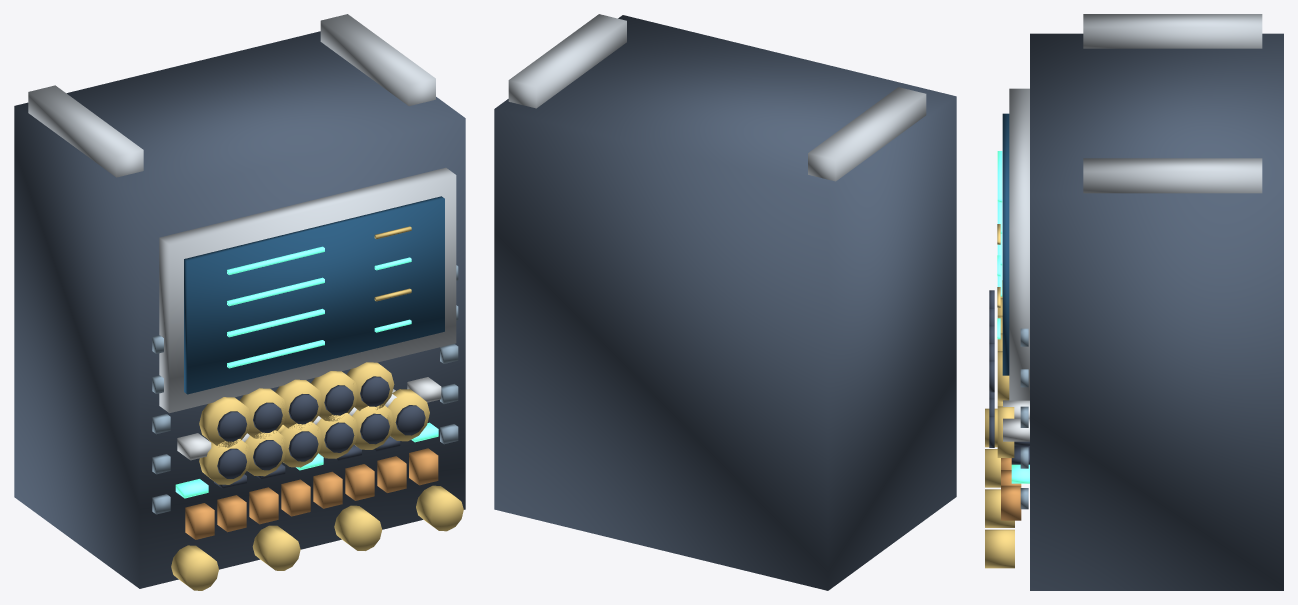
Rendered from 64_L85_DockingMechanismSequencingPLC.glb.
3 renders of one model, left to right at view 1: azimuth 30°, elevation 25°; view 2: azimuth 150°, elevation 25°; view 3: azimuth 270°, elevation 25°, orthographic. The views are drawn at different scales.
Parts seen in each view (by area): view 1: L85_DockingMechanismSequencin_Part_0000, L85_DockingMechanismSequencin_Part_0002, L85_DockingMechanismSequencin_Part_0001, L85_DockingMechanismSequencin_Part_0008, L85_DockingMechanismSequencin_Part_0004, L85_DockingMechanismSequencin_Part_0003, L85_DockingMechanismSequencin_Part_0007, L85_DockingMechanismSequencin_Part_0005, L85_DockingMechanismSequencin_Part_0021, L85_DockingMechanismSequencin_Part_0009, L85_DockingMechanismSequencin_Part_0019, L85_DockingMechanismSequencin_Part_0025 (+19 smaller); view 2: L85_DockingMechanismSequencin_Part_0000, L85_DockingMechanismSequencin_Part_0001; view 3: L85_DockingMechanismSequencin_Part_0000, L85_DockingMechanismSequencin_Part_0001, L85_DockingMechanismSequencin_Part_0004, L85_DockingMechanismSequencin_Part_0002, L85_DockingMechanismSequencin_Part_0003, L85_DockingMechanismSequencin_Part_0008, L85_DockingMechanismSequencin_Part_0007, L85_DockingMechanismSequencin_Part_0005, L85_DockingMechanismSequencin_Part_0019, L85_DockingMechanismSequencin_Part_0029.
Boxes of the visible parts, x1,y1,x2,y2 form: L85_DockingMechanismSequencin_Part_0000: (14, 31, 465, 588); L85_DockingMechanismSequencin_Part_0002: (184, 196, 444, 394); L85_DockingMechanismSequencin_Part_0001: (28, 14, 456, 413); L85_DockingMechanismSequencin_Part_0008: (185, 448, 438, 539); L85_DockingMechanismSequencin_Part_0004: (171, 226, 463, 590); L85_DockingMechanismSequencin_Part_0003: (175, 246, 438, 498); L85_DockingMechanismSequencin_Part_0007: (152, 265, 458, 514); L85_DockingMechanismSequencin_Part_0005: (177, 377, 441, 460); L85_DockingMechanismSequencin_Part_0021: (199, 397, 251, 447); L85_DockingMechanismSequencin_Part_0009: (199, 439, 251, 484); L85_DockingMechanismSequencin_Part_0019: (387, 389, 429, 441); L85_DockingMechanismSequencin_Part_0025: (275, 379, 322, 429); L85_DockingMechanismSequencin_Part_0000: (494, 15, 956, 590); L85_DockingMechanismSequencin_Part_0001: (508, 14, 926, 181); L85_DockingMechanismSequencin_Part_0000: (1030, 33, 1283, 590); L85_DockingMechanismSequencin_Part_0001: (1009, 14, 1262, 400); L85_DockingMechanismSequencin_Part_0004: (985, 224, 1014, 568); L85_DockingMechanismSequencin_Part_0002: (1002, 113, 1009, 375); L85_DockingMechanismSequencin_Part_0003: (997, 151, 1029, 483); L85_DockingMechanismSequencin_Part_0008: (1001, 458, 1021, 520); L85_DockingMechanismSequencin_Part_0007: (1020, 328, 1028, 509); L85_DockingMechanismSequencin_Part_0005: (1003, 400, 1029, 441); L85_DockingMechanismSequencin_Part_0019: (997, 406, 1014, 457); L85_DockingMechanismSequencin_Part_0029: (997, 351, 1009, 401).
Bounding box in the file's own units: 0.9588 × 1.16 × 0.752.
